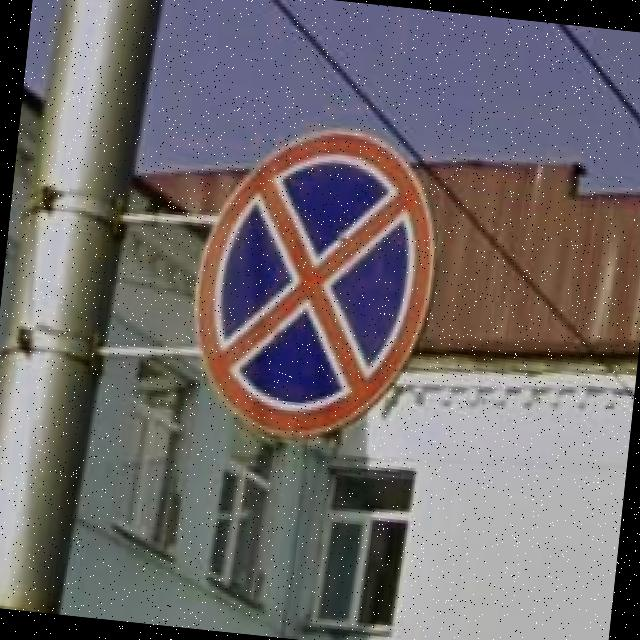Zakaz zatrzymywania sie: (182, 114, 446, 450)
